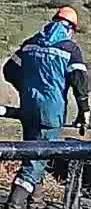gloves: (72, 110, 90, 138)
helmet: (51, 6, 80, 30)
vest: (17, 27, 79, 129)
